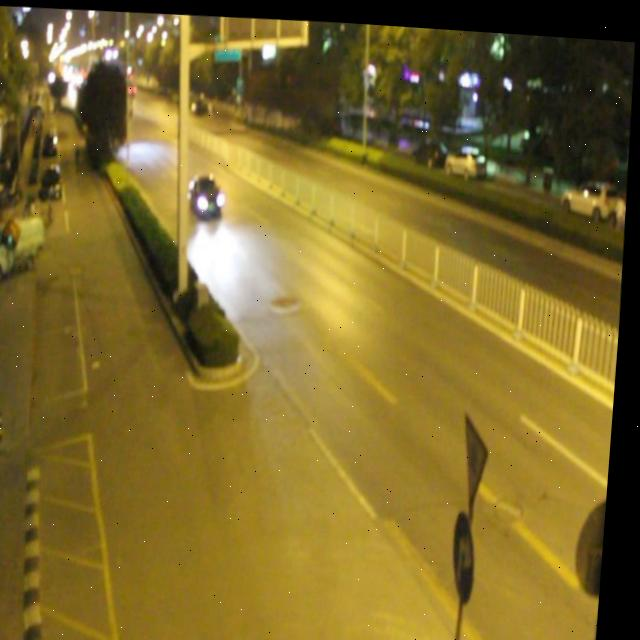car: (189, 170, 226, 217)
